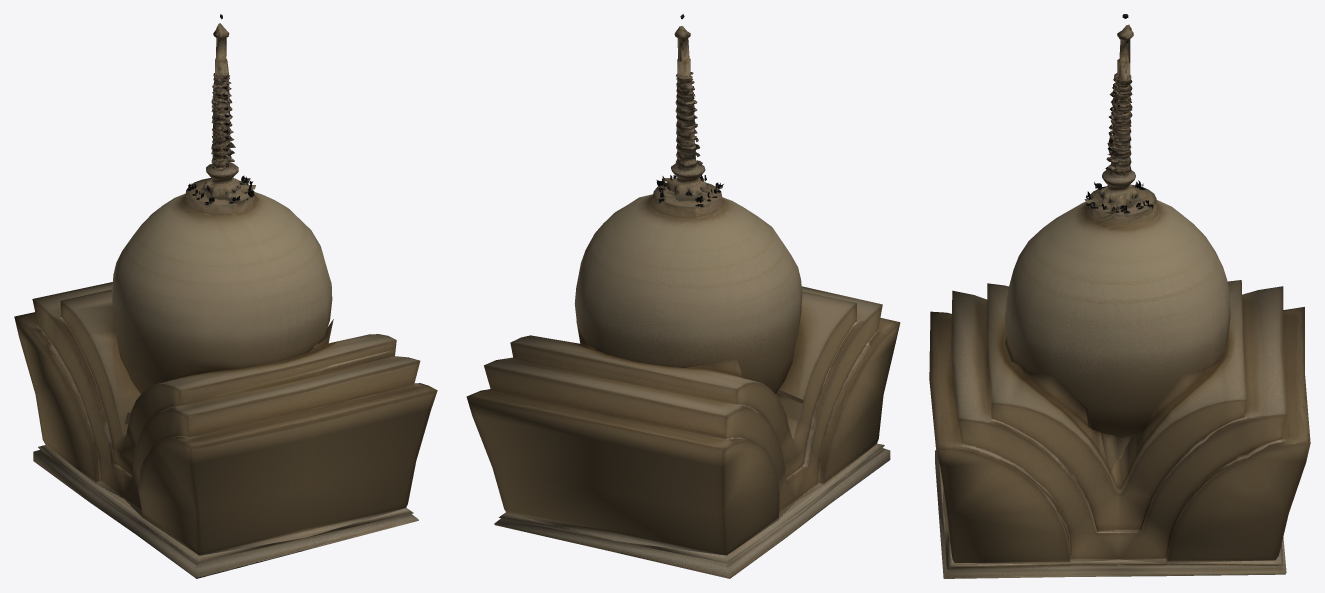
File: golden dome 3d model.glb
3 views of the same model, side by side, from view 1: azimuth 30°, elevation 25°; view 2: azimuth 150°, elevation 25°; view 3: azimuth 270°, elevation 25° (orthographic). The views are drawn at different scales.
Parts seen in each view (by area): view 1: tripo_part_1, tripo_part_2, tripo_part_3, tripo_part_0; view 2: tripo_part_1, tripo_part_2, tripo_part_3, tripo_part_0; view 3: tripo_part_1, tripo_part_2, tripo_part_3, tripo_part_0, tripo_part_45.
Boxes of the visible parts, left/top/right/bottom form: tripo_part_1: left=14, top=282, right=437, bottom=555; tripo_part_2: left=112, top=177, right=332, bottom=424; tripo_part_3: left=33, top=445, right=418, bottom=578; tripo_part_0: left=203, top=23, right=255, bottom=200; tripo_part_1: left=466, top=286, right=900, bottom=555; tripo_part_2: left=574, top=182, right=804, bottom=421; tripo_part_3: left=494, top=443, right=890, bottom=578; tripo_part_0: left=664, top=26, right=707, bottom=196; tripo_part_1: left=929, top=280, right=1310, bottom=563; tripo_part_2: left=1004, top=185, right=1230, bottom=437; tripo_part_3: left=935, top=450, right=1286, bottom=578; tripo_part_0: left=1084, top=24, right=1138, bottom=212; tripo_part_45: left=1101, top=433, right=1131, bottom=475.
Bounding box in the file's own units: 0.5577 × 1 × 0.683.
Materials: 59 (59 with a texture image).
